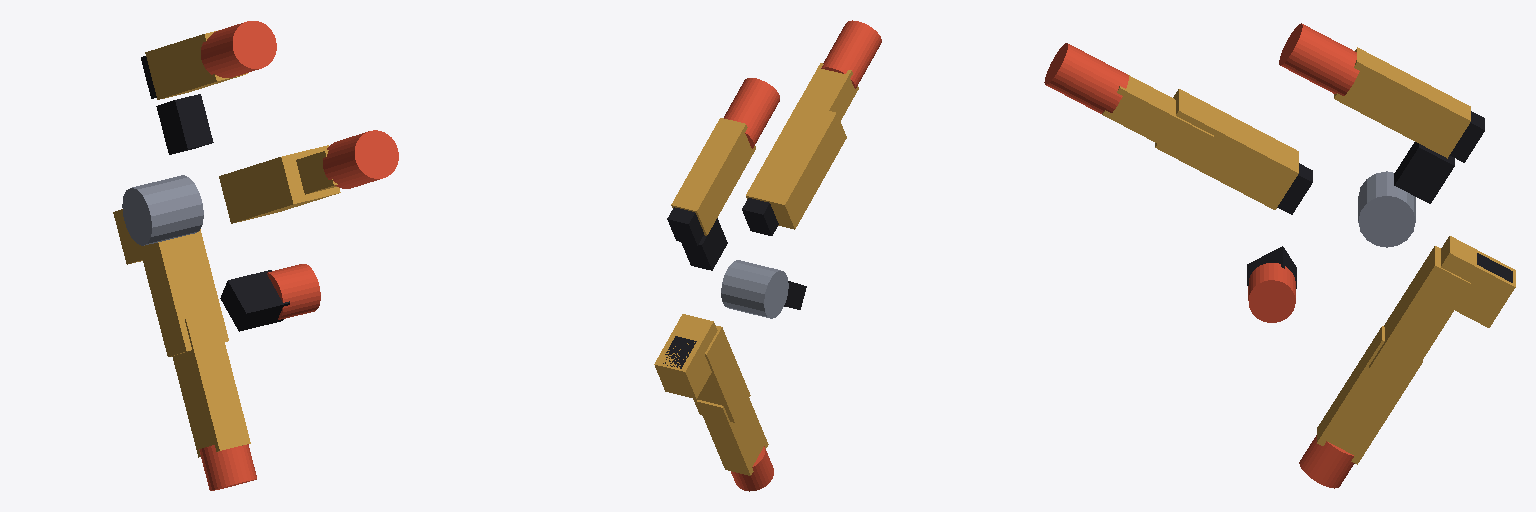
URDF robot description (g0053_c05):
<robot name="g0053_c05">
  <link name="palm">
    <visual name="palm_palm1">
      <origin xyz="0 0 0" rpy="0 0 0" />
      <geometry>
        <mesh filename="palm_palm1.obj" />
      </geometry>
      <material name="palm_palm1_mat">
        <color rgba="0.55 0.57 0.62 1" />
      </material>
    </visual>
    <collision>
      <origin xyz="0 0 0" rpy="0 0 0" />
      <geometry>
        <mesh filename="palm_palm1.obj" />
      </geometry>
    </collision>
    <visual name="palm_mount2">
      <origin xyz="0 0 0" rpy="0 0 0" />
      <geometry>
        <mesh filename="palm_mount2.obj" />
      </geometry>
      <material name="palm_mount2_mat">
        <color rgba="0.55 0.57 0.62 1" />
      </material>
    </visual>
    <collision>
      <origin xyz="0 0 0" rpy="0 0 0" />
      <geometry>
        <mesh filename="palm_mount2.obj" />
      </geometry>
    </collision>
    <visual name="palm_hinge3">
      <origin xyz="0 0.02625 0.0454663337" rpy="-1.57079633 0.523598776 1.57079633" />
      <geometry>
        <box size="0.029 0.034 0.02" />
      </geometry>
      <material name="palm_hinge3_mat">
        <color rgba="0.15 0.15 0.17 1" />
      </material>
    </visual>
    <collision>
      <origin xyz="0 0.02625 0.0454663337" rpy="-1.57079633 0.523598776 1.57079633" />
      <geometry>
        <box size="0.029 0.034 0.02" />
      </geometry>
    </collision>
    <visual name="palm_motor4">
      <origin xyz="-0.007 -0.08 -0.04" rpy="3.5352508e-17 -0.523598776 1.57079633" />
      <geometry>
        <box size="0.029 0.034 0.02" />
      </geometry>
      <material name="palm_motor4_mat">
        <color rgba="0.15 0.15 0.17 1" />
      </material>
    </visual>
    <collision>
      <origin xyz="-0.007 -0.08 -0.04" rpy="3.5352508e-17 -0.523598776 1.57079633" />
      <geometry>
        <box size="0.029 0.034 0.02" />
      </geometry>
    </collision>
    <visual name="palm_motor5">
      <origin xyz="0 -0.0735048095 0.03625" rpy="-1.57079633 -1.04719755 1.57079633" />
      <geometry>
        <box size="0.029 0.034 0.02" />
      </geometry>
      <material name="palm_motor5_mat">
        <color rgba="0.15 0.15 0.17 1" />
      </material>
    </visual>
    <collision>
      <origin xyz="0 -0.0735048095 0.03625" rpy="-1.57079633 -1.04719755 1.57079633" />
      <geometry>
        <box size="0.029 0.034 0.02" />
      </geometry>
    </collision>
    <visual name="palm_motor6">
      <origin xyz="-0.0045 0.0666996732 -0.0467548095" rpy="1.57079633 -0.523598776 -1.57079633" />
      <geometry>
        <box size="0.029 0.034 0.02" />
      </geometry>
      <material name="palm_motor6_mat">
        <color rgba="0.15 0.15 0.17 1" />
      </material>
    </visual>
    <collision>
      <origin xyz="-0.0045 0.0666996732 -0.0467548095" rpy="1.57079633 -0.523598776 -1.57079633" />
      <geometry>
        <box size="0.029 0.034 0.02" />
      </geometry>
    </collision>
    <inertial>
      <origin xyz="6.76888832e-20 -0.0103464027 -0.003943043" rpy="1.57079633 0.281633343 1.57079633" />
      <mass value="0.912451442" />
      <inertia ixx="0.00114745738" ixy="0" ixz="0" iyy="0.00242857421" iyz="0" izz="0.00348843626" />
    </inertial>
  </link>
  <link name="palm0">
    <visual name="palm0_palm1">
      <origin xyz="0 0 0" rpy="0 0 0" />
      <geometry>
        <mesh filename="palm0_palm1.obj" />
      </geometry>
      <material name="palm0_palm1_mat">
        <color rgba="0.55 0.57 0.62 1" />
      </material>
    </visual>
    <collision>
      <origin xyz="0 0 0" rpy="0 0 0" />
      <geometry>
        <mesh filename="palm0_palm1.obj" />
      </geometry>
    </collision>
    <visual name="palm0_motor2">
      <origin xyz="0 0.0164951905 0.0242884758" rpy="-1.57079633 -1.04719755 1.57079633" />
      <geometry>
        <box size="0.029 0.034 0.02" />
      </geometry>
      <material name="palm0_motor2_mat">
        <color rgba="0.15 0.15 0.17 1" />
      </material>
    </visual>
    <collision>
      <origin xyz="0 0.0164951905 0.0242884758" rpy="-1.57079633 -1.04719755 1.57079633" />
      <geometry>
        <box size="0.029 0.034 0.02" />
      </geometry>
    </collision>
    <inertial>
      <origin xyz="4.83504342e-19 0.0119529711 0.0181608561" rpy="1.57079633 0.512193468 1.57079633" />
      <mass value="0.127739947" />
      <inertia ixx="2.30365352e-05" ixy="0" ixz="0" iyy="7.66115019e-05" iyz="0" izz="8.73850021e-05" />
    </inertial>
  </link>
  <link name="f0_link0">
    <visual name="f0_link0_link1">
      <origin xyz="0.019 -1.38777878e-17 -2.60208521e-18" rpy="-1.57079633 -0 -1.57079633" />
      <geometry>
        <cylinder radius="0.0165" length="0.029" />
      </geometry>
      <material name="f0_link0_link1_mat">
        <color rgba="0.85 0.35 0.25 1" />
      </material>
    </visual>
    <collision>
      <origin xyz="0.019 -1.38777878e-17 -2.60208521e-18" rpy="-1.57079633 -0 -1.57079633" />
      <geometry>
        <cylinder radius="0.0165" length="0.029" />
      </geometry>
    </collision>
    <inertial>
      <origin xyz="0.019 0 0" rpy="0 0 0" />
      <mass value="0.0763354" />
      <inertia ixx="9.49466441e-06" ixy="0" ixz="0" iyy="2.24143997e-05" iyz="0" izz="2.24143997e-05" />
    </inertial>
  </link>
  <link name="f1_link0">
    <visual name="f1_link0_link1">
      <origin xyz="0.014 -0.00625 -4.33680869e-18" rpy="0 7.03853194e-17 0" />
      <geometry>
        <box size="0.052 0.0365 0.033" />
      </geometry>
      <material name="f1_link0_link1_mat">
        <color rgba="0.80 0.62 0.30 1" />
      </material>
    </visual>
    <collision>
      <origin xyz="0.014 -0.00625 -4.33680869e-18" rpy="0 7.03853194e-17 0" />
      <geometry>
        <box size="0.052 0.0365 0.033" />
      </geometry>
    </collision>
    <inertial>
      <origin xyz="0.014 -0.00625 0" rpy="0 0 0" />
      <mass value="0.1096095" />
      <inertia ixx="2.21160002e-05" ixy="0" ixz="0" iyy="3.46457361e-05" iyz="0" izz="3.6867612e-05" />
    </inertial>
  </link>
  <link name="f1_link1">
    <visual name="f1_link1_link1">
      <origin xyz="0.02125 -0.00625 6.07153217e-18" rpy="0 7.03853194e-17 0" />
      <geometry>
        <box size="0.0665 0.0365 0.033" />
      </geometry>
      <material name="f1_link1_link1_mat">
        <color rgba="0.80 0.62 0.30 1" />
      </material>
    </visual>
    <collision>
      <origin xyz="0.02125 -0.00625 6.07153217e-18" rpy="0 7.03853194e-17 0" />
      <geometry>
        <box size="0.0665 0.0365 0.033" />
      </geometry>
    </collision>
    <inertial>
      <origin xyz="0.02125 -0.00625 0" rpy="0 0 0" />
      <mass value="0.140173688" />
      <inertia ixx="2.82829617e-05" ixy="0" ixz="0" iyy="6.43776863e-05" iyz="0" izz="6.72191237e-05" />
    </inertial>
  </link>
  <link name="f1_link2">
    <visual name="f1_link2_link1">
      <origin xyz="0.0215 0 -8.67361738e-19" rpy="0 7.03853194e-17 0" />
      <geometry>
        <box size="0.076 0.029 0.024" />
      </geometry>
      <material name="f1_link2_link1_mat">
        <color rgba="0.80 0.62 0.30 1" />
      </material>
    </visual>
    <collision>
      <origin xyz="0.0215 0 -8.67361738e-19" rpy="0 7.03853194e-17 0" />
      <geometry>
        <box size="0.076 0.029 0.024" />
      </geometry>
    </collision>
    <inertial>
      <origin xyz="0.0215 0 0" rpy="0 0 0" />
      <mass value="0.092568" />
      <inertia ixx="1.0930738e-05" ixy="0" ixz="0" iyy="4.8999328e-05" iyz="0" izz="5.1043538e-05" />
    </inertial>
  </link>
  <link name="f1_link3">
    <visual name="f1_link3_link1">
      <origin xyz="0.029 0 -5.20417043e-18" rpy="-1.57079633 -0 -1.57079633" />
      <geometry>
        <cylinder radius="0.0165" length="0.049" />
      </geometry>
      <material name="f1_link3_link1_mat">
        <color rgba="0.85 0.35 0.25 1" />
      </material>
    </visual>
    <collision>
      <origin xyz="0.029 0 -5.20417043e-18" rpy="-1.57079633 -0 -1.57079633" />
      <geometry>
        <cylinder radius="0.0165" length="0.049" />
      </geometry>
    </collision>
    <inertial>
      <origin xyz="0.029 0 0" rpy="0 0 0" />
      <mass value="0.106270851" />
      <inertia ixx="1.35696277e-05" ixy="0" ixz="0" iyy="5.30015704e-05" iyz="0" izz="5.30015704e-05" />
    </inertial>
  </link>
  <link name="f2_link0">
    <visual name="f2_link0_link1">
      <origin xyz="-0.00625 0 -0.0165" rpy="0 4.06369831e-17 0" />
      <geometry>
        <box size="0.0365 0.029 0.053" />
      </geometry>
      <material name="f2_link0_link1_mat">
        <color rgba="0.80 0.62 0.30 1" />
      </material>
    </visual>
    <collision>
      <origin xyz="-0.00625 0 -0.0165" rpy="0 4.06369831e-17 0" />
      <geometry>
        <box size="0.0365 0.029 0.053" />
      </geometry>
    </collision>
    <inertial>
      <origin xyz="-0.00625 0 -0.0165" rpy="0 0 0" />
      <mass value="0.098175875" />
      <inertia ixx="2.98618286e-05" ixy="0" ixz="0" iyy="3.38809035e-05" iyz="0" izz="1.778006e-05" />
    </inertial>
  </link>
  <link name="f2_link1">
    <visual name="f2_link1_link1">
      <origin xyz="0.03375 0 6.9388939e-18" rpy="0 4.06369831e-17 0" />
      <geometry>
        <box size="0.0915 0.033 0.029" />
      </geometry>
      <material name="f2_link1_link1_mat">
        <color rgba="0.80 0.62 0.30 1" />
      </material>
    </visual>
    <collision>
      <origin xyz="0.03375 0 6.9388939e-18" rpy="0 4.06369831e-17 0" />
      <geometry>
        <box size="0.0915 0.033 0.029" />
      </geometry>
    </collision>
    <inertial>
      <origin xyz="0.03375 0 0" rpy="0 0 0" />
      <mass value="0.153239625" />
      <inertia ixx="2.46460397e-05" ixy="0" ixz="0" iyy="0.000117652915" iyz="0" izz="0.000120819867" />
    </inertial>
  </link>
  <link name="f2_link2">
    <visual name="f2_link2_link1">
      <origin xyz="0.03375 0 -1.38777878e-17" rpy="0 4.06369831e-17 0" />
      <geometry>
        <box size="0.0915 0.024 0.033" />
      </geometry>
      <material name="f2_link2_link1_mat">
        <color rgba="0.80 0.62 0.30 1" />
      </material>
    </visual>
    <collision>
      <origin xyz="0.03375 0 -1.38777878e-17" rpy="0 4.06369831e-17 0" />
      <geometry>
        <box size="0.0915 0.024 0.033" />
      </geometry>
    </collision>
    <inertial>
      <origin xyz="0.03375 0 0" rpy="0 0 0" />
      <mass value="0.126819" />
      <inertia ixx="1.75961363e-05" ixy="0" ixz="0" iyy="9.99888553e-05" iyz="0" izz="9.45673431e-05" />
    </inertial>
  </link>
  <link name="f2_link3">
    <visual name="f2_link3_link1">
      <origin xyz="0.019 0 6.9388939e-18" rpy="-1.57079633 -0 -1.57079633" />
      <geometry>
        <cylinder radius="0.0165" length="0.029" />
      </geometry>
      <material name="f2_link3_link1_mat">
        <color rgba="0.85 0.35 0.25 1" />
      </material>
    </visual>
    <collision>
      <origin xyz="0.019 0 6.9388939e-18" rpy="-1.57079633 -0 -1.57079633" />
      <geometry>
        <cylinder radius="0.0165" length="0.029" />
      </geometry>
    </collision>
    <inertial>
      <origin xyz="0.019 0 0" rpy="0 0 0" />
      <mass value="0.0763354" />
      <inertia ixx="9.49466441e-06" ixy="0" ixz="0" iyy="2.24143997e-05" iyz="0" izz="2.24143997e-05" />
    </inertial>
  </link>
  <link name="f3_link0">
    <visual name="f3_link0_link1">
      <origin xyz="0.03375 0 0" rpy="0 7.03853194e-17 0" />
      <geometry>
        <box size="0.0915 0.024 0.033" />
      </geometry>
      <material name="f3_link0_link1_mat">
        <color rgba="0.80 0.62 0.30 1" />
      </material>
    </visual>
    <collision>
      <origin xyz="0.03375 0 0" rpy="0 7.03853194e-17 0" />
      <geometry>
        <box size="0.0915 0.024 0.033" />
      </geometry>
    </collision>
    <inertial>
      <origin xyz="0.03375 0 0" rpy="0 0 0" />
      <mass value="0.126819" />
      <inertia ixx="1.75961363e-05" ixy="0" ixz="0" iyy="9.99888553e-05" iyz="0" izz="9.45673431e-05" />
    </inertial>
  </link>
  <link name="f3_link1">
    <visual name="f3_link1_link1">
      <origin xyz="0.029 0 -6.9388939e-18" rpy="-1.57079633 -0 -1.57079633" />
      <geometry>
        <cylinder radius="0.0165" length="0.049" />
      </geometry>
      <material name="f3_link1_link1_mat">
        <color rgba="0.85 0.35 0.25 1" />
      </material>
    </visual>
    <collision>
      <origin xyz="0.029 0 -6.9388939e-18" rpy="-1.57079633 -0 -1.57079633" />
      <geometry>
        <cylinder radius="0.0165" length="0.049" />
      </geometry>
    </collision>
    <inertial>
      <origin xyz="0.029 0 0" rpy="0 0 0" />
      <mass value="0.106270851" />
      <inertia ixx="1.35696277e-05" ixy="0" ixz="0" iyy="5.30015704e-05" iyz="0" izz="5.30015704e-05" />
    </inertial>
  </link>
  <joint name="palm0_joint" type="revolute">
    <parent link="palm" />
    <child link="palm0" />
    <origin xyz="0 0.03 0.0519615242" rpy="0 0 0" />
    <axis xyz="0 0.866025404 -0.5" />
    <limit effort="0.5" lower="-0.523598776" upper="0.523598776" velocity="5" />
    <dynamics damping="0.0775033" friction="0" />
  </joint>
  <joint name="f0_j0" type="revolute">
    <parent link="palm" />
    <child link="f0_link0" />
    <origin xyz="0.0005 -0.08 -0.04" rpy="0.523598776 3.061617e-17 -5.30287619e-17" />
    <axis xyz="0 1 6.123234e-17" />
    <limit effort="0.5" lower="-0.523598776" upper="0.523598776" velocity="5" />
    <dynamics damping="0.0775033" friction="0" />
  </joint>
  <joint name="f1_j0" type="revolute">
    <parent link="palm" />
    <child link="f1_link0" />
    <origin xyz="0 -0.08 0.04" rpy="-0 -0.523598776 -1.57079633" />
    <axis xyz="0 0 1" />
    <limit effort="0.5" lower="-0.523598776" upper="1.57079633" velocity="5" />
    <dynamics damping="0.0775033" friction="0" />
  </joint>
  <joint name="f1_j1" type="revolute">
    <parent link="f1_link0" />
    <child link="f1_link1" />
    <origin xyz="0.03 0 0" rpy="0 0 0" />
    <axis xyz="0 0 1" />
    <limit effort="0.5" lower="-0.523598776" upper="1.57079633" velocity="5" />
    <dynamics damping="0.0775033" friction="0" />
  </joint>
  <joint name="f1_j2" type="revolute">
    <parent link="f1_link1" />
    <child link="f1_link2" />
    <origin xyz="0.04 0 0" rpy="0 0 0" />
    <axis xyz="1 0 6.123234e-17" />
    <limit effort="0.5" lower="-1.57079633" upper="1.57079633" velocity="5" />
    <dynamics damping="0.0775033" friction="0" />
  </joint>
  <joint name="f1_j3" type="revolute">
    <parent link="f1_link2" />
    <child link="f1_link3" />
    <origin xyz="0.05 0 0" rpy="0 0 0" />
    <axis xyz="-0 -1 -6.123234e-17" />
    <limit effort="0.5" lower="-0.523598776" upper="0.523598776" velocity="5" />
    <dynamics damping="0.0775033" friction="0" />
  </joint>
  <joint name="f2_j0" type="revolute">
    <parent link="palm" />
    <child link="f2_link0" />
    <origin xyz="-0.0045 0.04 -0.04" rpy="0 1.04719755 -1.57079633" />
    <axis xyz="0 0 1" />
    <limit effort="0.5" lower="-0.523598776" upper="1.57079633" velocity="5" />
    <dynamics damping="0.0775033" friction="0" />
  </joint>
  <joint name="f2_j1" type="revolute">
    <parent link="f2_link0" />
    <child link="f2_link1" />
    <origin xyz="0 0 0" rpy="0 0 0" />
    <axis xyz="0 1 6.123234e-17" />
    <limit effort="0.5" lower="-0.523598776" upper="0.523598776" velocity="5" />
    <dynamics damping="0.0775033" friction="0" />
  </joint>
  <joint name="f2_j2" type="revolute">
    <parent link="f2_link1" />
    <child link="f2_link2" />
    <origin xyz="0.07 0 0" rpy="0 0 0" />
    <axis xyz="0 0 1" />
    <limit effort="0.5" lower="-0.523598776" upper="1.57079633" velocity="5" />
    <dynamics damping="0.0775033" friction="0" />
  </joint>
  <joint name="f2_j3" type="revolute">
    <parent link="f2_link2" />
    <child link="f2_link3" />
    <origin xyz="0.07 0 0" rpy="0 0 0" />
    <axis xyz="0 0 1" />
    <limit effort="0.5" lower="-0.523598776" upper="1.57079633" velocity="5" />
    <dynamics damping="0.0775033" friction="0" />
  </joint>
  <joint name="f3_j0" type="revolute">
    <parent link="palm0" />
    <child link="f3_link0" />
    <origin xyz="0 0.01 0.0280384758" rpy="-0 -0.523598776 -1.57079633" />
    <axis xyz="0 0 1" />
    <limit effort="0.5" lower="-0.523598776" upper="1.57079633" velocity="5" />
    <dynamics damping="0.0775033" friction="0" />
  </joint>
  <joint name="f3_j1" type="revolute">
    <parent link="f3_link0" />
    <child link="f3_link1" />
    <origin xyz="0.07 0 0" rpy="0 0 0" />
    <axis xyz="0 0 1" />
    <limit effort="0.5" lower="-0.523598776" upper="1.57079633" velocity="5" />
    <dynamics damping="0.0775033" friction="0" />
  </joint>
</robot>

--- Facts derived from the render (not from the file) ---
Views: 3 orthographic renders of the robot side by side, from view 1: azimuth 30°, elevation 25°; view 2: azimuth 150°, elevation 25°; view 3: azimuth 270°, elevation 25°.
Robot: g0053_c05 — 13 links, 12 joints (12 revolute); root link palm; default pose: all joints at 0.
Links seen in each view (by area): view 1: palm, f2_link2, f2_link1, f1_link3, f3_link1, f3_link0, f1_link1, f0_link0, f2_link3, f1_link0, f1_link2, f2_link0; view 2: palm, f3_link0, f1_link1, f1_link0, f2_link2, f2_link0, f2_link1, f1_link3, f3_link1, f1_link2, palm0, f2_link3; view 3: palm, f3_link0, f2_link1, f2_link2, f1_link2, f1_link0, f1_link3, f3_link1, f1_link1, f2_link0, f0_link0, f2_link3 (+1 smaller).
Boxes of the visible links, <box> form: palm: <box>122,94,289,331</box>; f2_link2: <box>172,311,250,457</box>; f2_link1: <box>139,229,228,356</box>; f1_link3: <box>323,130,398,188</box>; f3_link1: <box>201,21,276,77</box>; f3_link0: <box>145,30,247,99</box>; f1_link1: <box>238,145,340,216</box>; f0_link0: <box>267,264,320,319</box>; f2_link3: <box>199,444,256,490</box>; f1_link0: <box>219,166,297,223</box>; f1_link2: <box>296,150,337,194</box>; f2_link0: <box>113,209,142,264</box>; palm: <box>663,198,806,368</box>; f3_link0: <box>671,118,755,235</box>; f1_link1: <box>771,103,846,200</box>; f1_link0: <box>746,146,812,229</box>; f2_link2: <box>697,398,768,475</box>; f2_link0: <box>654,314,717,398</box>; f2_link1: <box>693,326,750,422</box>; f1_link3: <box>821,20,881,88</box>; f3_link1: <box>724,78,779,148</box>; f1_link2: <box>798,63,858,121</box>; palm0: <box>667,207,703,245</box>; f2_link3: <box>731,446,773,491</box>; palm: <box>1247,142,1512,288</box>; f3_link0: <box>1334,47,1470,158</box>; f2_link1: <box>1369,246,1470,386</box>; f2_link2: <box>1317,326,1422,464</box>; f1_link2: <box>1102,74,1213,163</box>; f1_link0: <box>1211,132,1298,209</box>; f1_link3: <box>1044,43,1128,113</box>; f3_link1: <box>1279,23,1359,95</box>; f1_link1: <box>1155,89,1261,188</box>; f2_link0: <box>1441,236,1515,327</box>; f0_link0: <box>1248,263,1295,322</box>; f2_link3: <box>1299,435,1354,488</box>.
Bounding box of the posed robot: 0.086 × 0.328 × 0.3545 m (x, y, z).
1 mesh visuals loaded from 3 distinct referenced files (1 OBJ); not drawn: 2 (reference not matched to a file when rendering).
